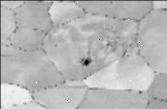good_void: (78, 56, 91, 67)
